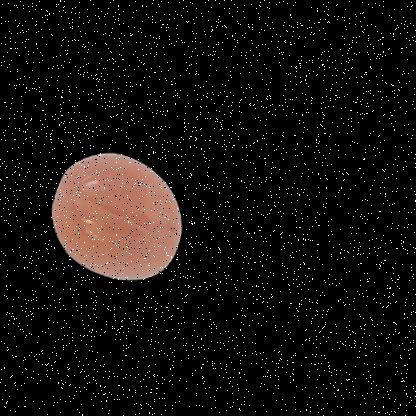opiqutan: (36, 129, 221, 327)
